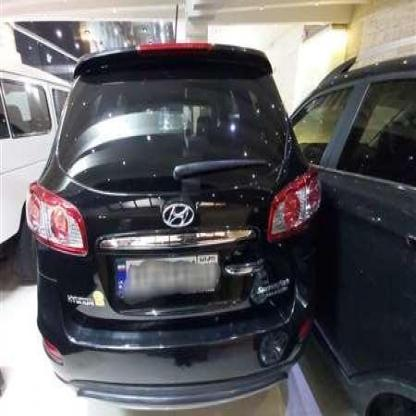Car: (32, 64, 316, 406), (284, 55, 416, 416)
